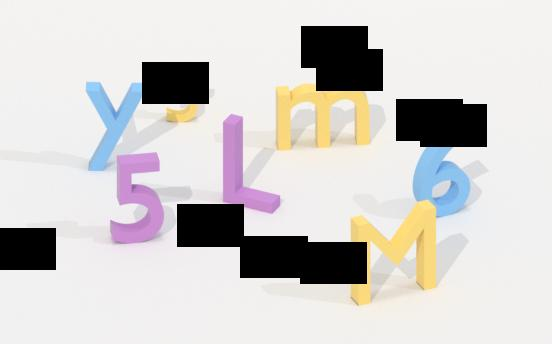5: (108, 155, 165, 246), (165, 66, 203, 126)
6: (409, 120, 474, 219)
M-hoa: (343, 201, 442, 308)
Y: (83, 79, 147, 174)
l: (217, 111, 283, 215)
m: (276, 83, 375, 150)
